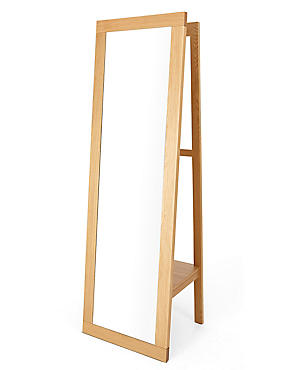Nonrec_Glass: (75, 4, 210, 368)
